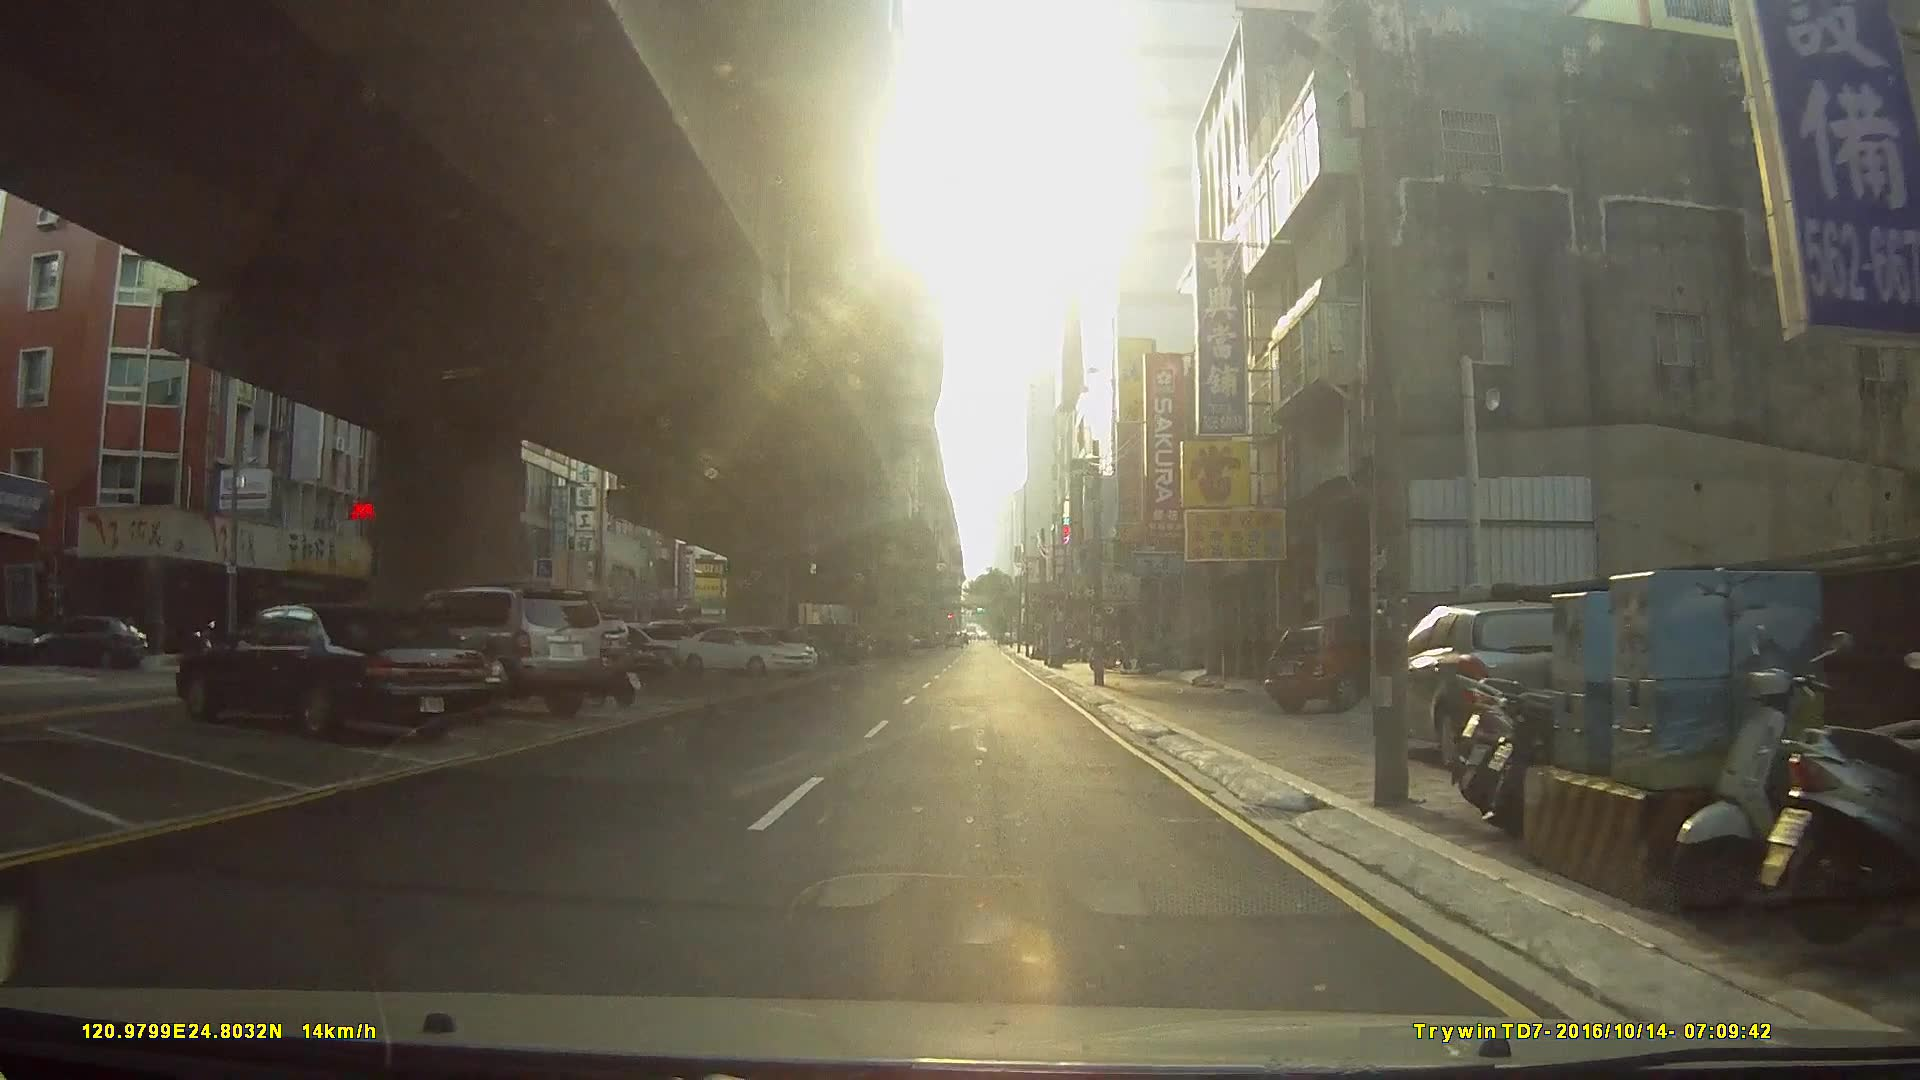vehicle: (171, 601, 488, 742), (1370, 597, 1607, 767), (394, 584, 609, 719), (1265, 613, 1414, 713), (675, 624, 819, 679), (26, 612, 148, 666)
